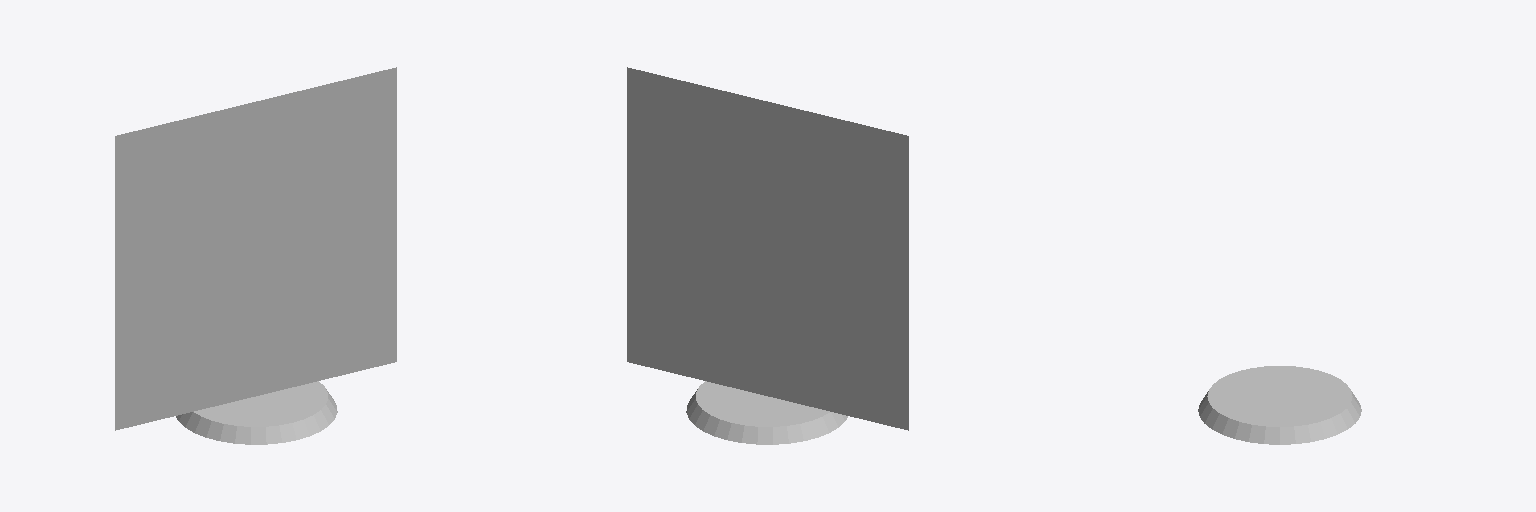
File: wg-25m_col.obj
3 views of the same model, side by side, from view 1: azimuth 30°, elevation 25°; view 2: azimuth 150°, elevation 25°; view 3: azimuth 270°, elevation 25° (orthographic).
Visible parts, largest first — view 1: face, face.001, base25m; view 2: face, face.001, base25m; view 3: base25m.
Boxes of the visible parts, x1,y1,x2,y2 form: face: [115, 67, 396, 430]; face.001: [115, 68, 396, 429]; base25m: [176, 381, 337, 444]; face: [627, 67, 908, 430]; face.001: [627, 68, 908, 429]; base25m: [686, 381, 847, 444]; base25m: [1198, 366, 1361, 444].
Size of the model in its own units: 1.86 by 1.95 by 0.9344.